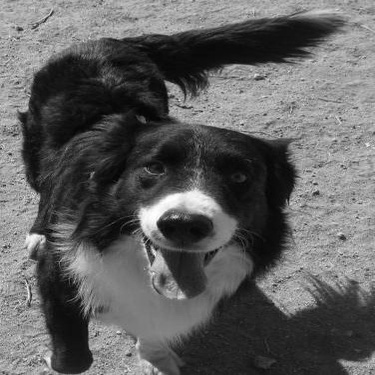dog: (12, 5, 349, 374)
